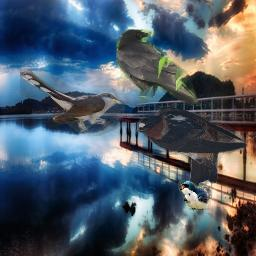Crow: (116, 29, 201, 106)
Cuckoo: (20, 68, 126, 136)
Swallow: (135, 105, 249, 190), (178, 180, 211, 211)
